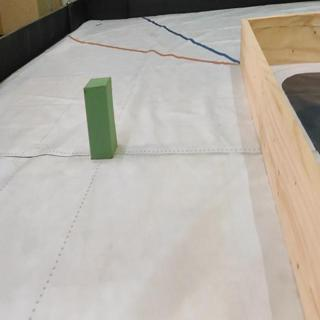greenbox: (84, 80, 117, 162)
